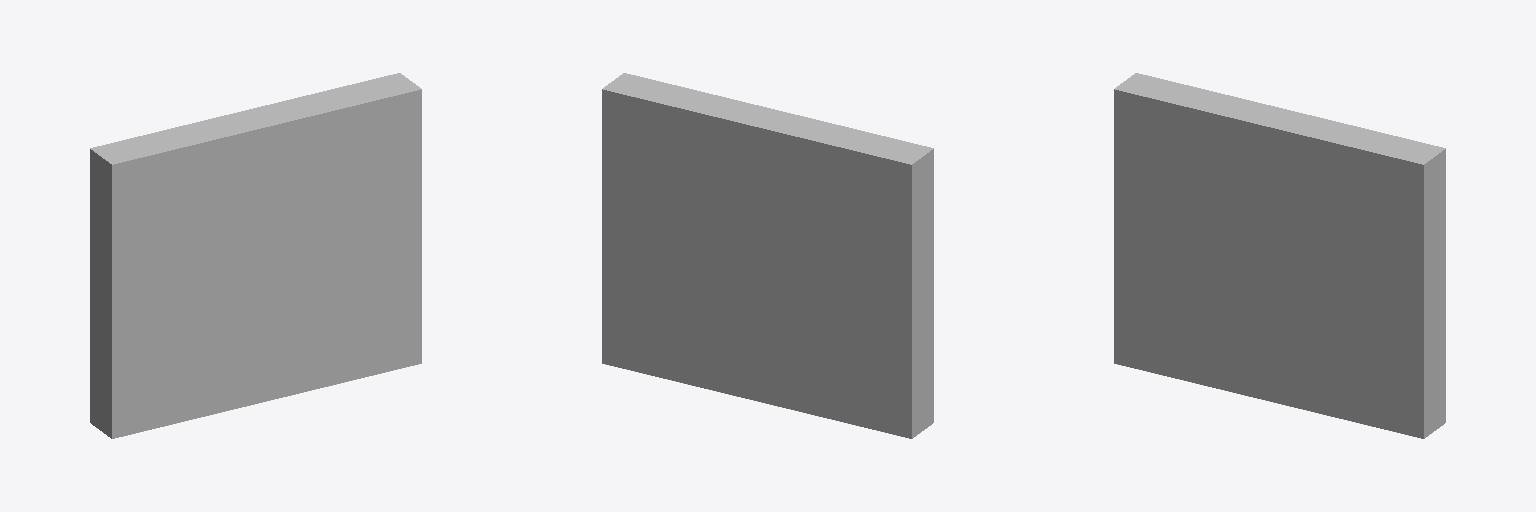
File: wall1.obj
3 views of the same model, side by side, from view 1: azimuth 30°, elevation 25°; view 2: azimuth 150°, elevation 25°; view 3: azimuth 330°, elevation 25° (orthographic).
Parts seen in each view (by area): view 1: Wall2, Wall6, Wall4; view 2: Wall3, Wall6, Wall4; view 3: Wall2, Wall6, Wall5.
Part boxes in pixels (x1,y1,x2,y2): Wall2: (112, 90, 421, 438); Wall6: (90, 73, 420, 163); Wall4: (90, 149, 111, 438); Wall3: (602, 90, 911, 438); Wall6: (603, 73, 933, 163); Wall4: (912, 149, 933, 438); Wall2: (1114, 90, 1423, 438); Wall6: (1115, 73, 1445, 163); Wall5: (1424, 149, 1445, 438).
Bounding box in the file's own units: 16.2 × 13.7 × 2.04.